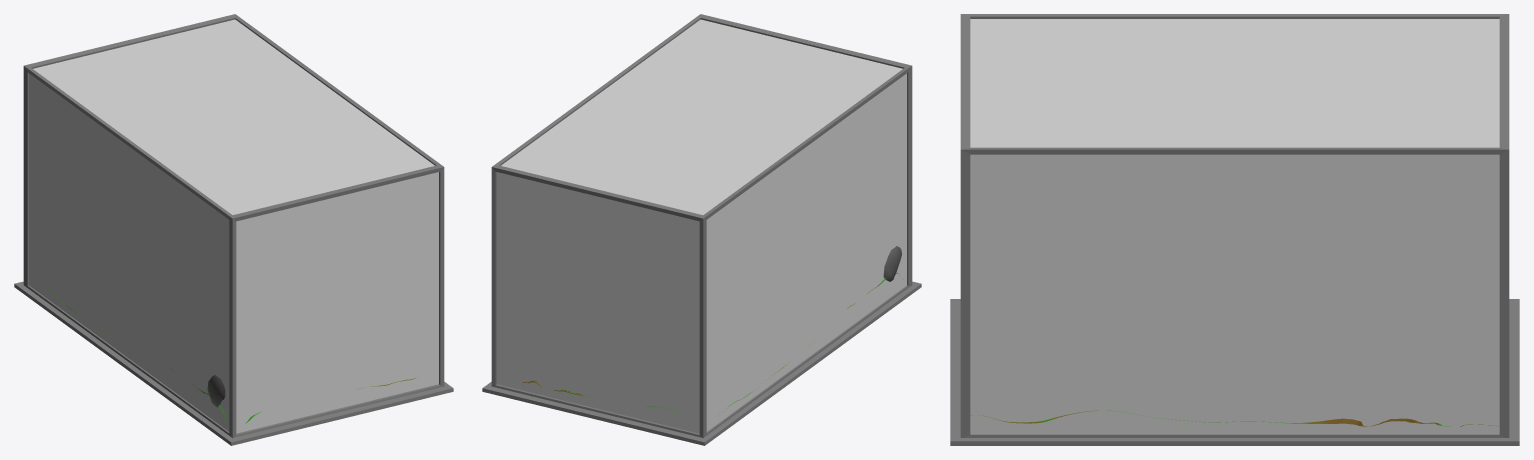
File: Landscapeterrarium 1.fbx
The picture shows the model from 3 angles, left to right: view 1: azimuth 30°, elevation 25°; view 2: azimuth 150°, elevation 25°; view 3: azimuth 270°, elevation 25°; orthographic projection. The views are drawn at different scales.
Visible parts, largest first — view 1: Cube.016, Cube.017, Cube.018; view 2: Cube.016, Cube.017, Cube.018, rock.005; view 3: Cube.016, Cube.017, Cube.018, Plane.006.
Part boxes in pixels (<box>): Cube.016: <box>29,19,438,433</box>; Cube.017: <box>23,14,444,438</box>; Cube.018: <box>14,281,453,445</box>; Cube.016: <box>497,19,906,433</box>; Cube.017: <box>491,14,912,438</box>; Cube.018: <box>482,281,921,445</box>; rock.005: <box>883,246,901,281</box>; Cube.016: <box>970,19,1499,434</box>; Cube.017: <box>960,14,1509,437</box>; Cube.018: <box>950,299,1519,445</box>; Plane.006: <box>970,410,1498,426</box>.
Size of the model in its own units: 480 by 475 by 811.
